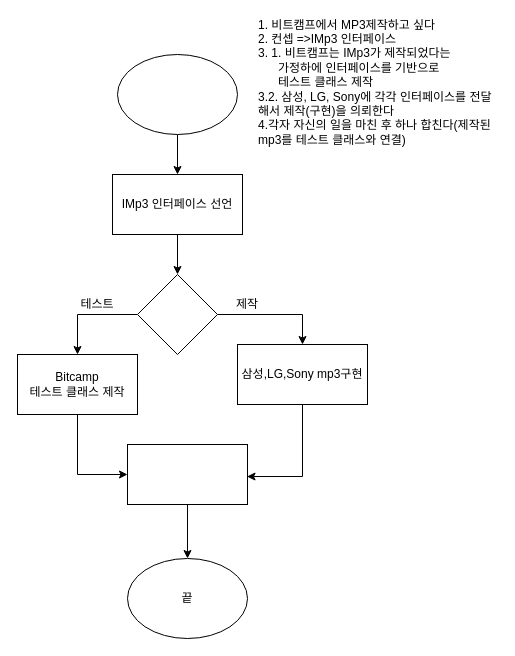
This 515x656 diagram has some shape labels left out. The shapes that lost their labels are listed below. From the top down, each one's box as (x1, y1, x2, y2) in pixels, then its label:
(116, 54, 238, 134): 시작
(126, 444, 248, 504): 테스트 진행
